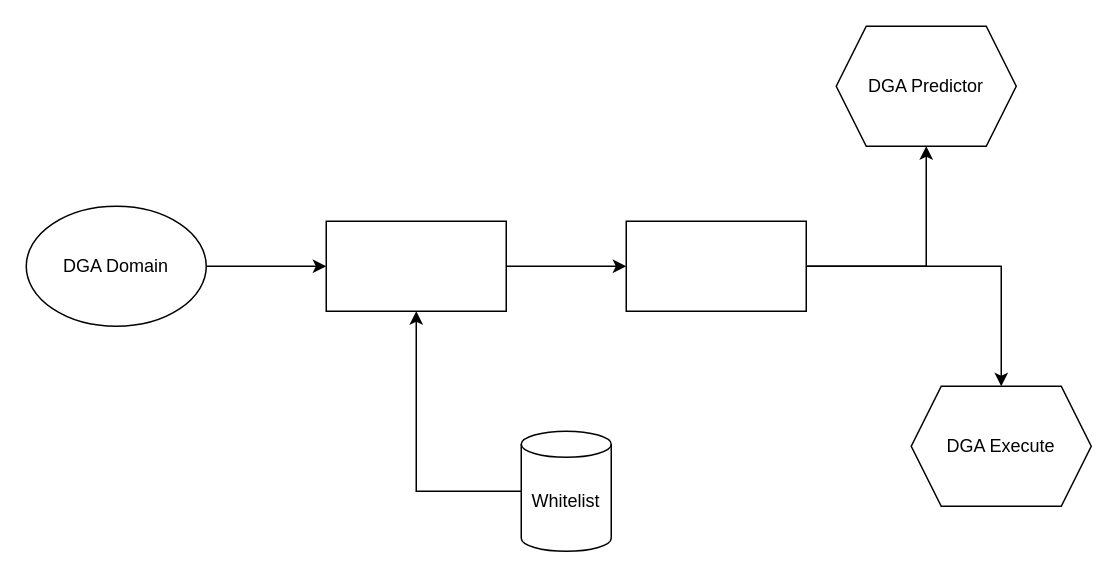
Some shapes in this 1118 by 578 pixel diagram are drawn without their labels. The centre of each missing label's shape, as x and y in pixels:
"DGA Core" belongs at (715,265).
"DGA Filtering" belongs at (415,265).
